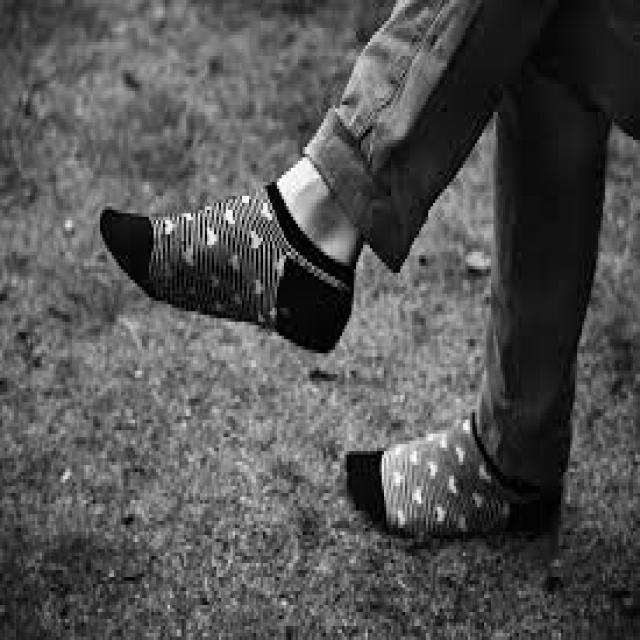Clothes -Biodegradable-: (304, 0, 640, 502), (96, 180, 355, 345), (341, 416, 560, 546)
